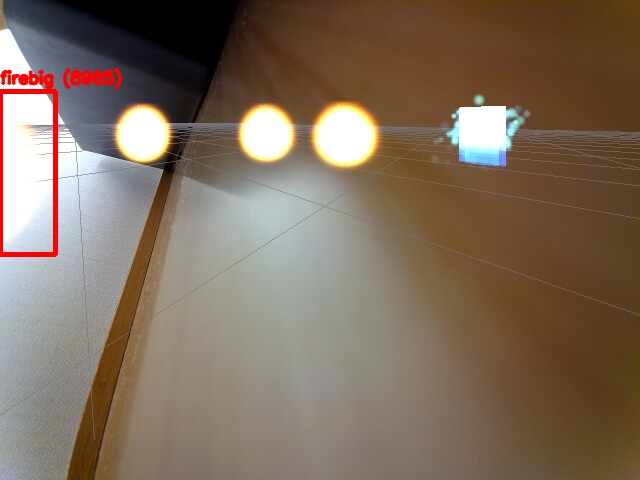firebig: (0, 91, 55, 254)
